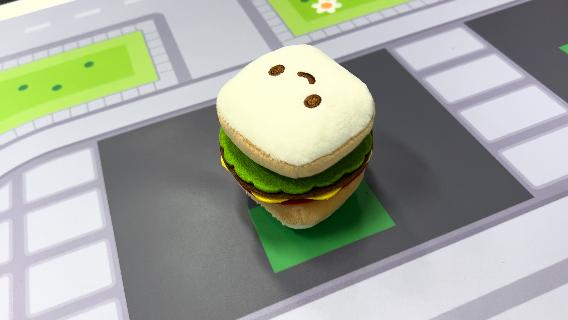sandwich: (213, 42, 378, 230)
